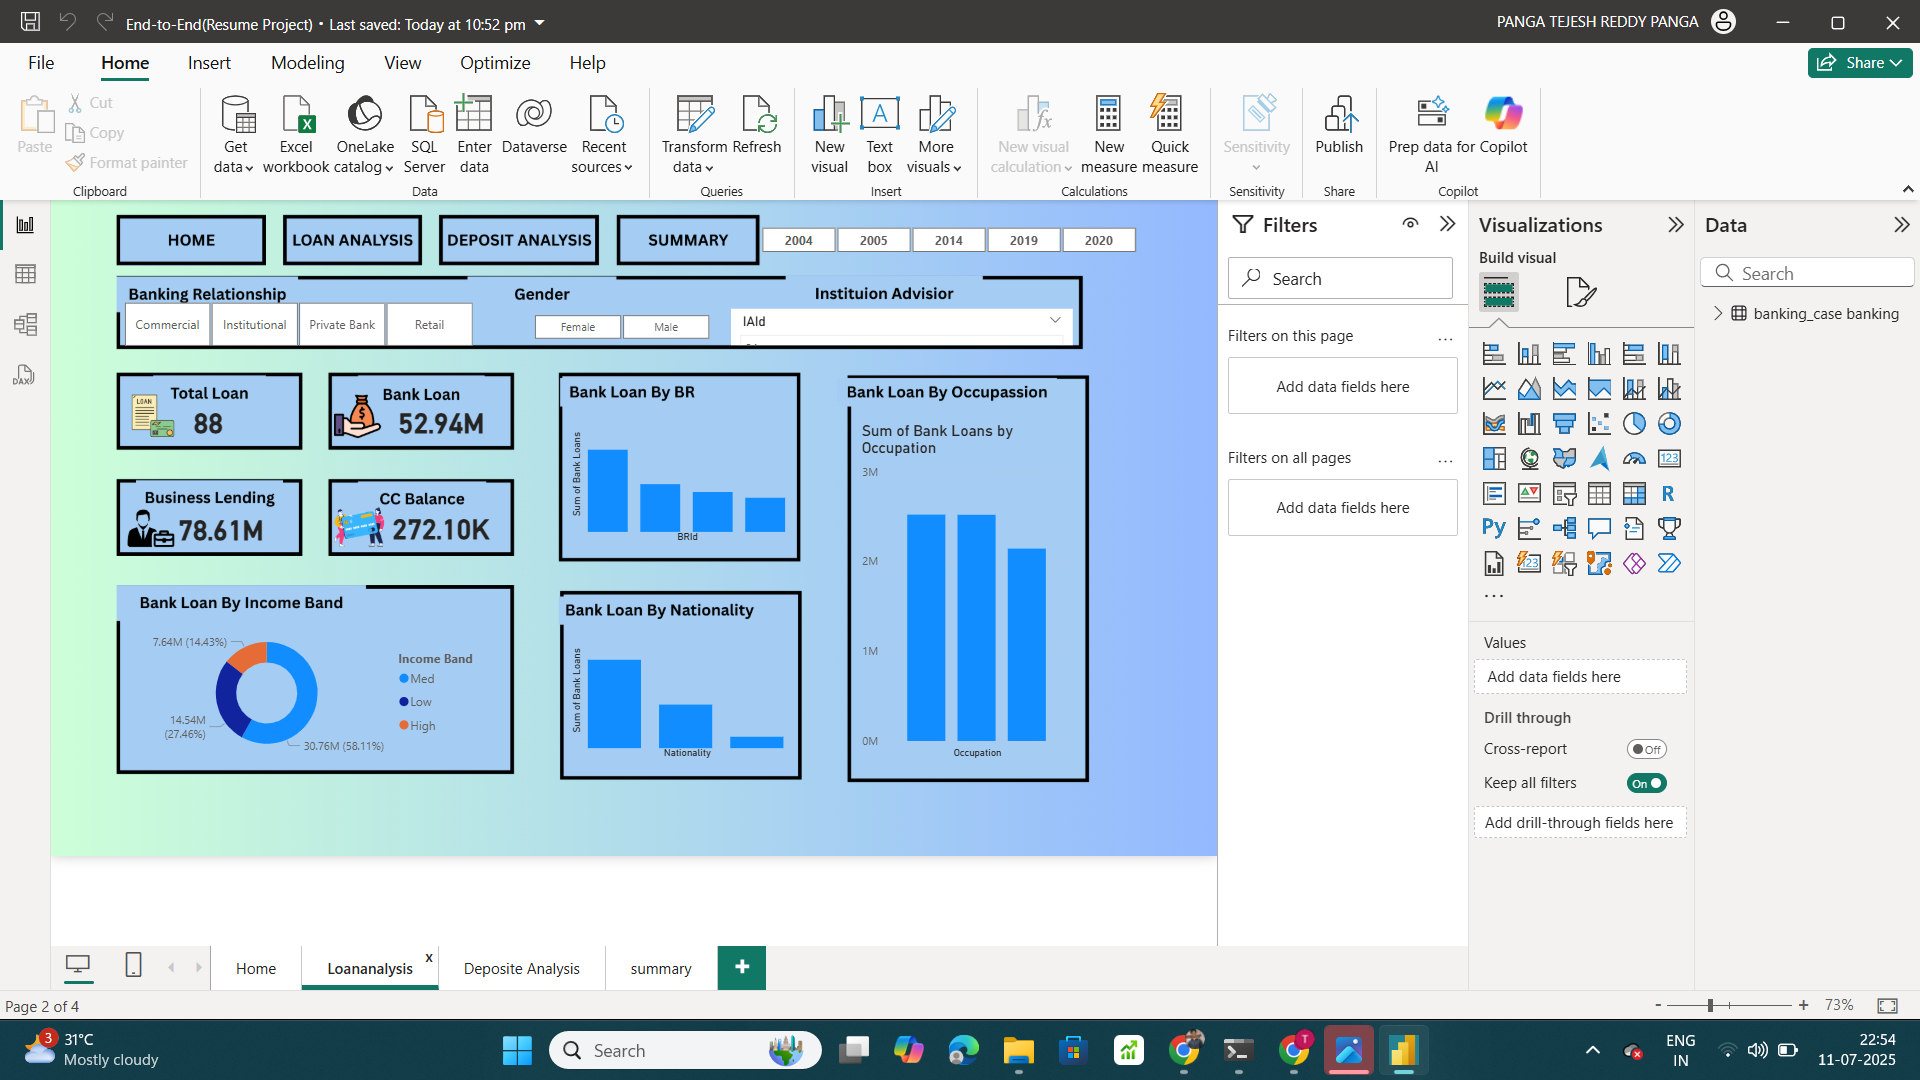

The dashboard page shown, as its layout file describes it:
{"tool":"powerbi","page":{"name":"Loananalysis","canvas":[1280,720],"ordinal":1},"visuals":[{"type":"slicer","fields":{"Values":["banking_case banking.year of joining"]},"box":[755,23.3,460,40],"z":0},{"type":"actionButton","box":[78.3,23.3,148.3,40],"z":1000},{"type":"actionButton","box":[258.3,23.3,143.3,40],"z":2000},{"type":"actionButton","box":[428.3,23.3,168.3,40],"z":3000},{"type":"actionButton","box":[626.7,23.3,145,40],"z":4000},{"type":"card","fields":{"Values":["CountNonNull(banking_case banking.Name)"]},"box":[88.3,223.3,170,38.3],"z":5000},{"type":"card","fields":{"Values":["Sum(banking_case banking.Bank Loans)"]},"box":[343.3,223.3,170,38.3],"z":6000},{"type":"card","fields":{"Values":["Sum(banking_case banking.Business Lending)"]},"box":[101.7,341.7,170,38.3],"z":7000},{"type":"card","fields":{"Values":["Sum(banking_case banking.Credit Card Balance)"]},"box":[343.3,340,170,38.3],"z":8000},{"type":"donutChart","fields":{"Category":["banking_case banking.Income Band"],"Y":["Sum(banking_case banking.Bank Loans)"]},"box":[88.3,463.3,398.3,155],"z":9000},{"type":"columnChart","fields":{"Category":["banking_case banking.BRId"],"Y":["Sum(banking_case banking.Bank Loans)"]},"box":[566.7,223.3,246.7,156.7],"z":10000},{"type":"columnChart","fields":{"Y":["Sum(banking_case banking.Bank Loans)"],"Category":["banking_case banking.Nationality"]},"box":[566.7,461.7,246.7,156.7],"z":11000},{"type":"columnChart","fields":{"Category":["banking_case banking.Occupation"],"Y":["Sum(banking_case banking.Bank Loans)"]},"box":[885,243.3,236.7,375],"z":12000},{"type":"slicer","fields":{"Values":["banking_case banking.BRId"]},"box":[55,105,431.7,61.7],"z":13000},{"type":"slicer","fields":{"Values":["banking_case banking.GenderId"]},"box":[505,120,241.7,40],"z":14000},{"type":"slicer","fields":{"Values":["banking_case banking.IAId"]},"box":[746.7,120,375,40],"z":15000},{"type":"actionButton","box":[428.3,23.3,168.3,40],"z":15001}]}

Visuals, with their boxes on the page's 1280x720 design canvas (x1, y1, x2, y2). These are canvas units, not pixel positions in the 1920x1080 screenshot, which may show the page scaled, cropped or inside an application window:
slicer - banking_case banking.year of joining: [x1=755, y1=23, x2=1215, y2=63]
actionButton: [x1=78, y1=23, x2=227, y2=63]
actionButton: [x1=258, y1=23, x2=402, y2=63]
actionButton: [x1=428, y1=23, x2=597, y2=63]
actionButton: [x1=627, y1=23, x2=772, y2=63]
card - CountNonNull(banking_case banking.Name): [x1=88, y1=223, x2=258, y2=262]
card - Sum(banking_case banking.Bank Loans): [x1=343, y1=223, x2=513, y2=262]
card - Sum(banking_case banking.Business Lending): [x1=102, y1=342, x2=272, y2=380]
card - Sum(banking_case banking.Credit Card Balance): [x1=343, y1=340, x2=513, y2=378]
donutChart - banking_case banking.Income Band x Sum(banking_case banking.Bank Loans): [x1=88, y1=463, x2=487, y2=618]
columnChart - banking_case banking.BRId x Sum(banking_case banking.Bank Loans): [x1=567, y1=223, x2=813, y2=380]
columnChart - Sum(banking_case banking.Bank Loans) x banking_case banking.Nationality: [x1=567, y1=462, x2=813, y2=618]
columnChart - banking_case banking.Occupation x Sum(banking_case banking.Bank Loans): [x1=885, y1=243, x2=1122, y2=618]
slicer - banking_case banking.BRId: [x1=55, y1=105, x2=487, y2=167]
slicer - banking_case banking.GenderId: [x1=505, y1=120, x2=747, y2=160]
slicer - banking_case banking.IAId: [x1=747, y1=120, x2=1122, y2=160]
actionButton: [x1=428, y1=23, x2=597, y2=63]
